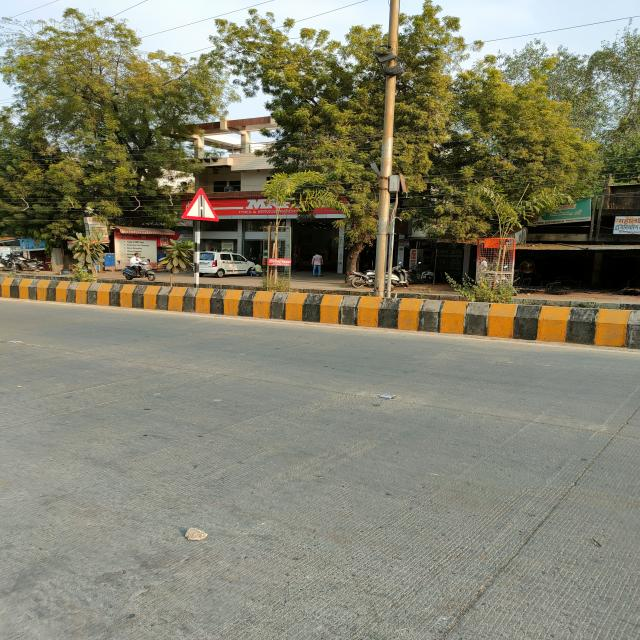ferry: (182, 187, 220, 221)
